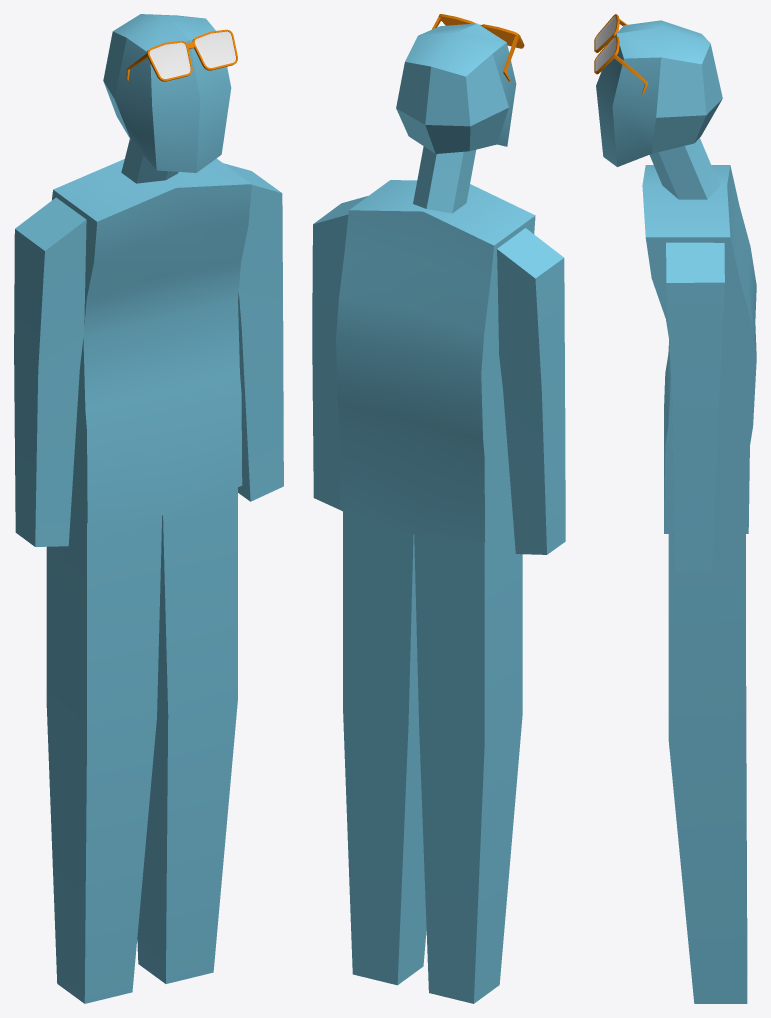
Rendered from man04.glb.
3 views of the same model, side by side, from view 1: azimuth 30°, elevation 25°; view 2: azimuth 150°, elevation 25°; view 3: azimuth 270°, elevation 25° (orthographic). The views are drawn at different scales.
Visible parts, largest first — view 1: man04_col; view 2: man04_col; view 3: man04_col.
Boxes of the visible parts, bbox=[...] form: man04_col: bbox=[14, 14, 283, 1003]; man04_col: bbox=[312, 14, 565, 1003]; man04_col: bbox=[594, 14, 756, 1003].
Size of the model in its own units: 3.22 by 12.18 by 1.9.
